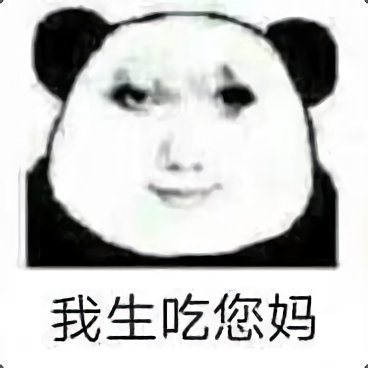dragon: (108, 66, 263, 211)
